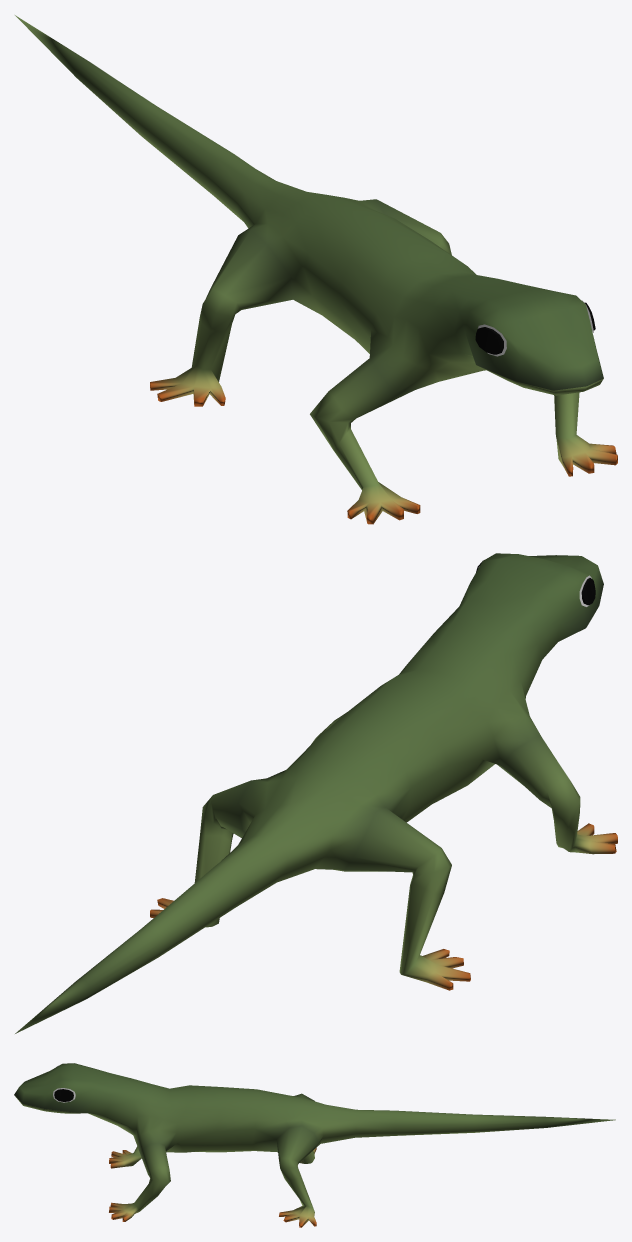
3 views of the same model, one above another, from view 1: azimuth 30°, elevation 25°; view 2: azimuth 150°, elevation 25°; view 3: azimuth 270°, elevation 25° (orthographic). The views are drawn at different scales.
Visible parts, largest first — view 1: base.118; view 2: base.118; view 3: base.118.
Part boxes in pixels (x1,y1,x2,y2): base.118: (15, 15, 617, 524); base.118: (15, 553, 617, 1033); base.118: (14, 1063, 615, 1227).
Bounding box in the file's own units: 0.1572 × 0.1064 × 0.5.
